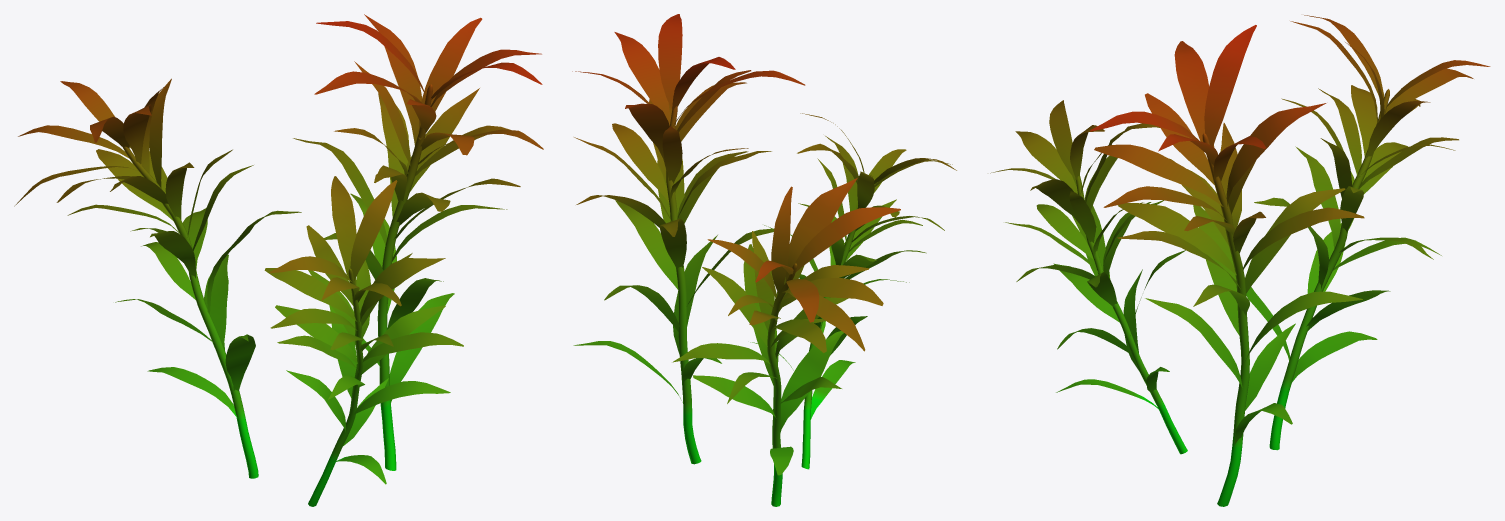
File: Goldenrods_LOD2_Var6.fbx
3 renders of one model, left to right at view 1: azimuth 30°, elevation 25°; view 2: azimuth 150°, elevation 25°; view 3: azimuth 270°, elevation 25°, orthographic. The views are drawn at different scales.
Parts seen in each view (by area): view 1: _6z50_Var6_LOD2; view 2: _6z50_Var6_LOD2; view 3: _6z50_Var6_LOD2.
Boxes of the visible parts, x1=… form: _6z50_Var6_LOD2: x1=14, y1=14, x2=543, y2=506; _6z50_Var6_LOD2: x1=572, y1=14, x2=956, y2=506; _6z50_Var6_LOD2: x1=990, y1=15, x2=1490, y2=506.
Bounding box in the file's own units: 48.42 × 52.01 × 52.68.
